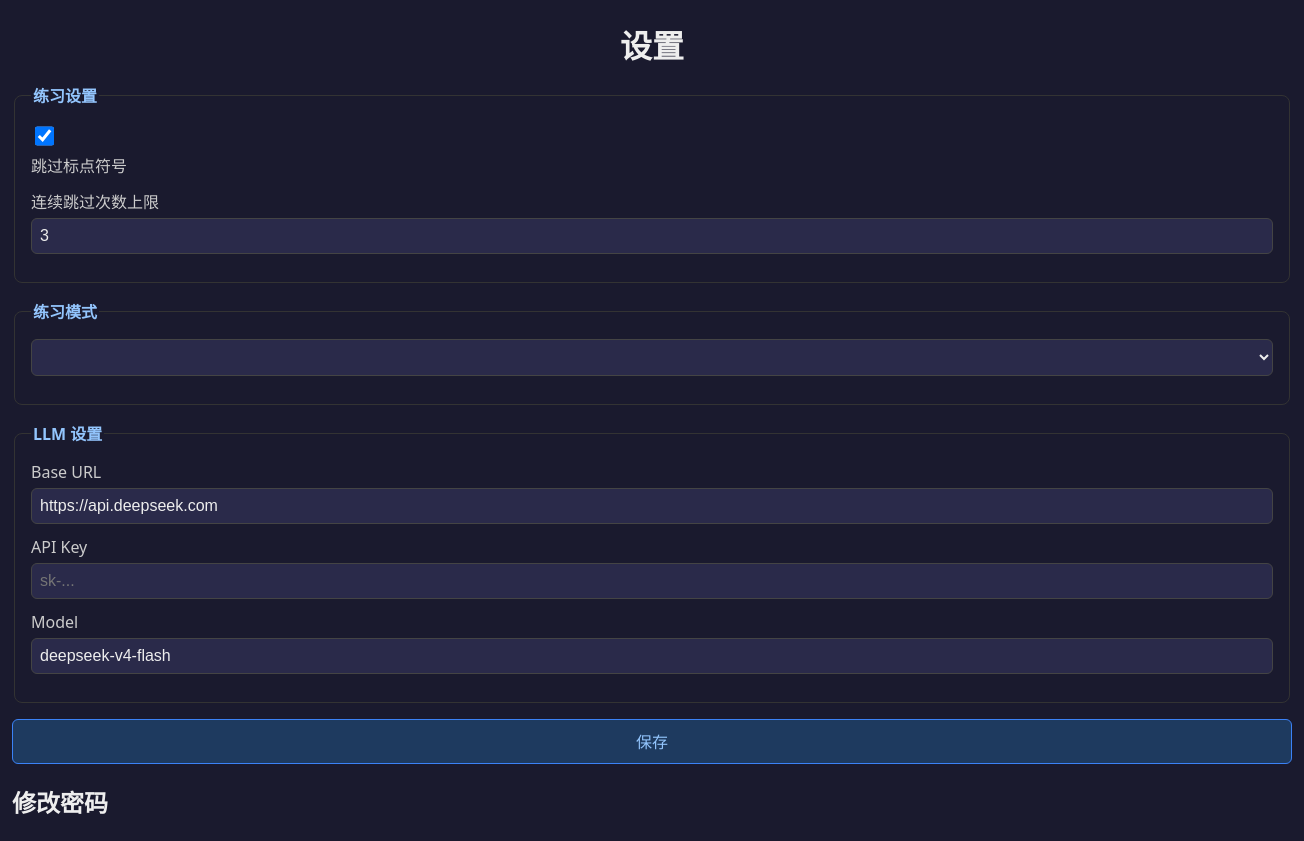
Scenario: SettingsPage › saves updated config
Replace the text in the number field labelled "连续跳过次数上限" with "5" at (652, 236), box [31, 218, 1273, 254]
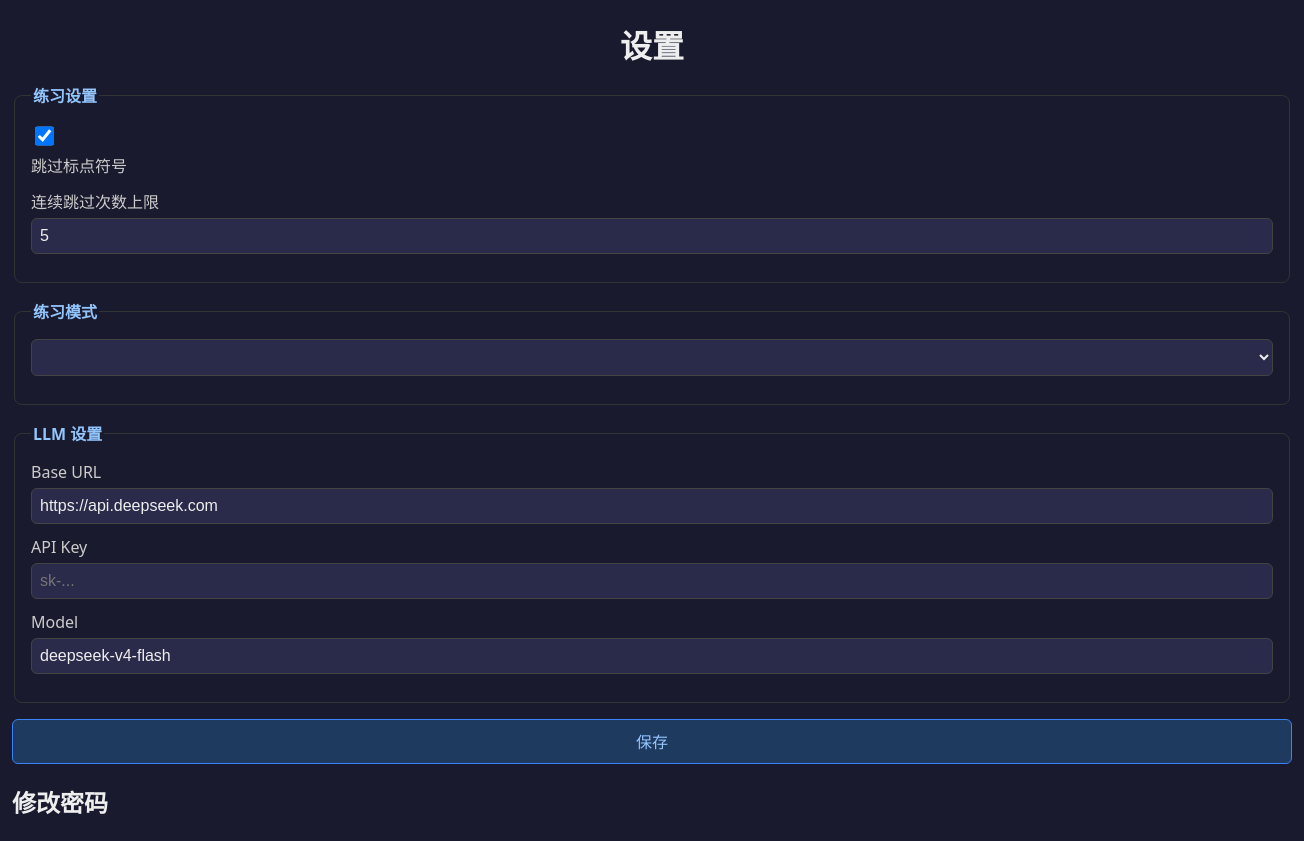
Type "sk-test" into the password field labelled "API Key".
click(652, 581); type("sk-test")  # box [31, 563, 1273, 599]
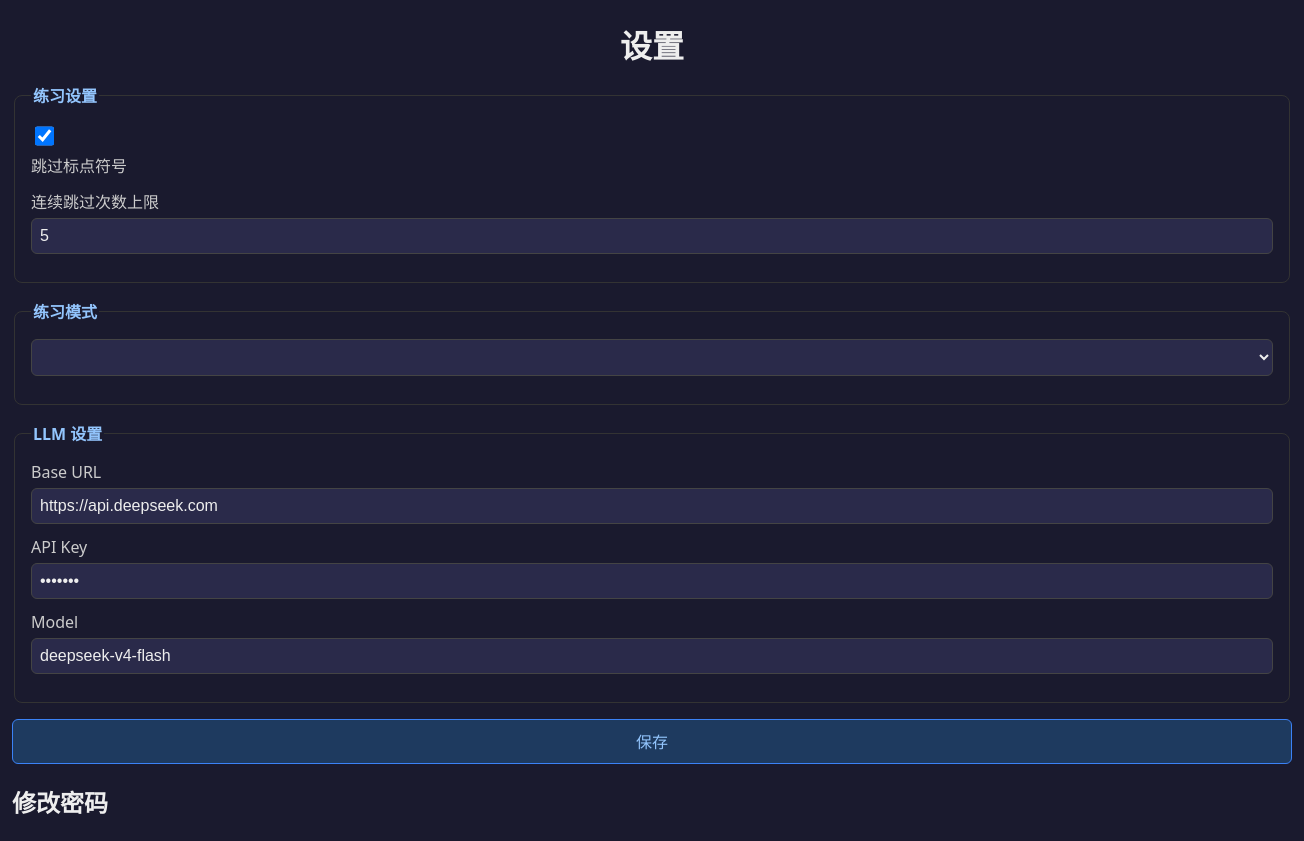
Submit the form "练习设置 跳过标点符号 连续跳过次数上限 练习模式 LLM 设置 Base URL API Key Model 保存"
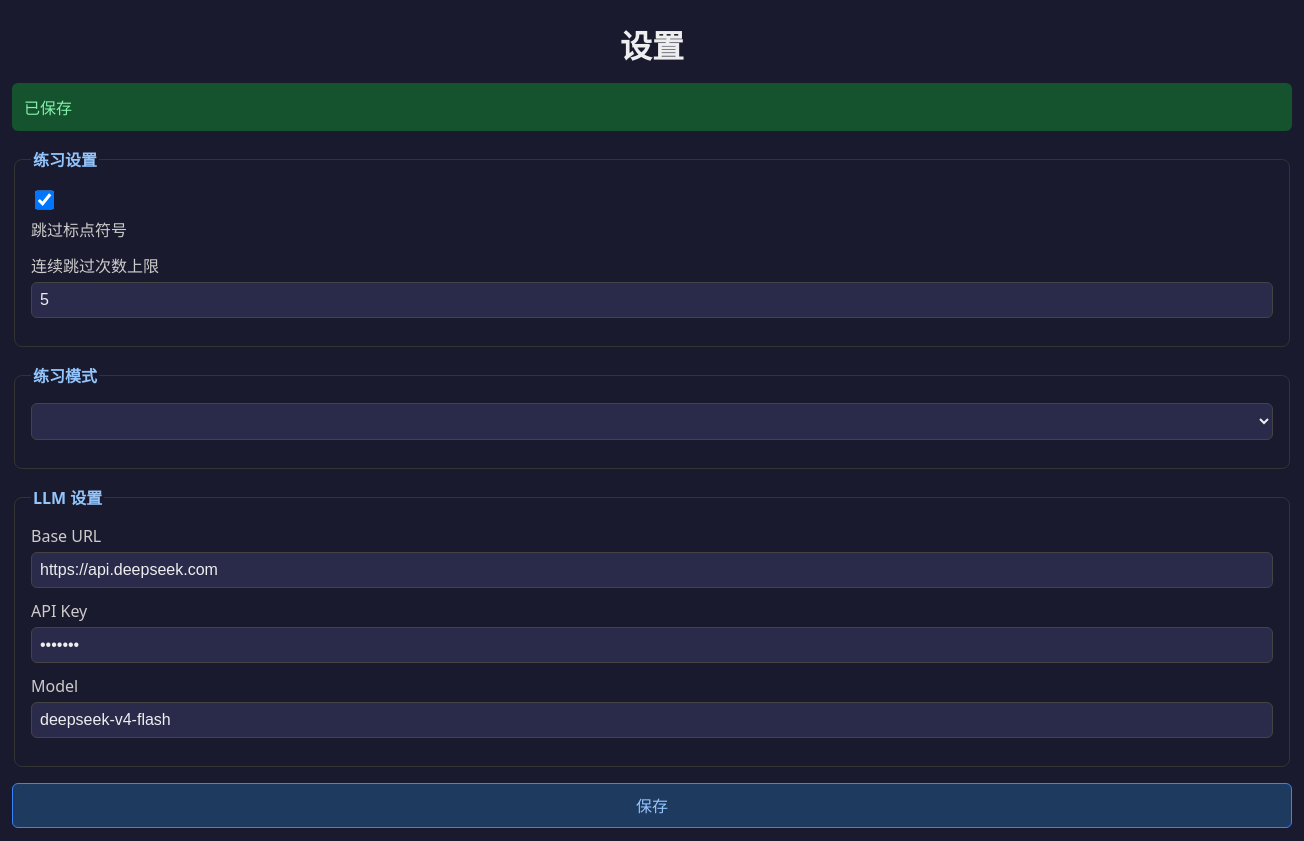
Check: the text with class "success-banner" reads "已保存", box [24, 97, 72, 119]
